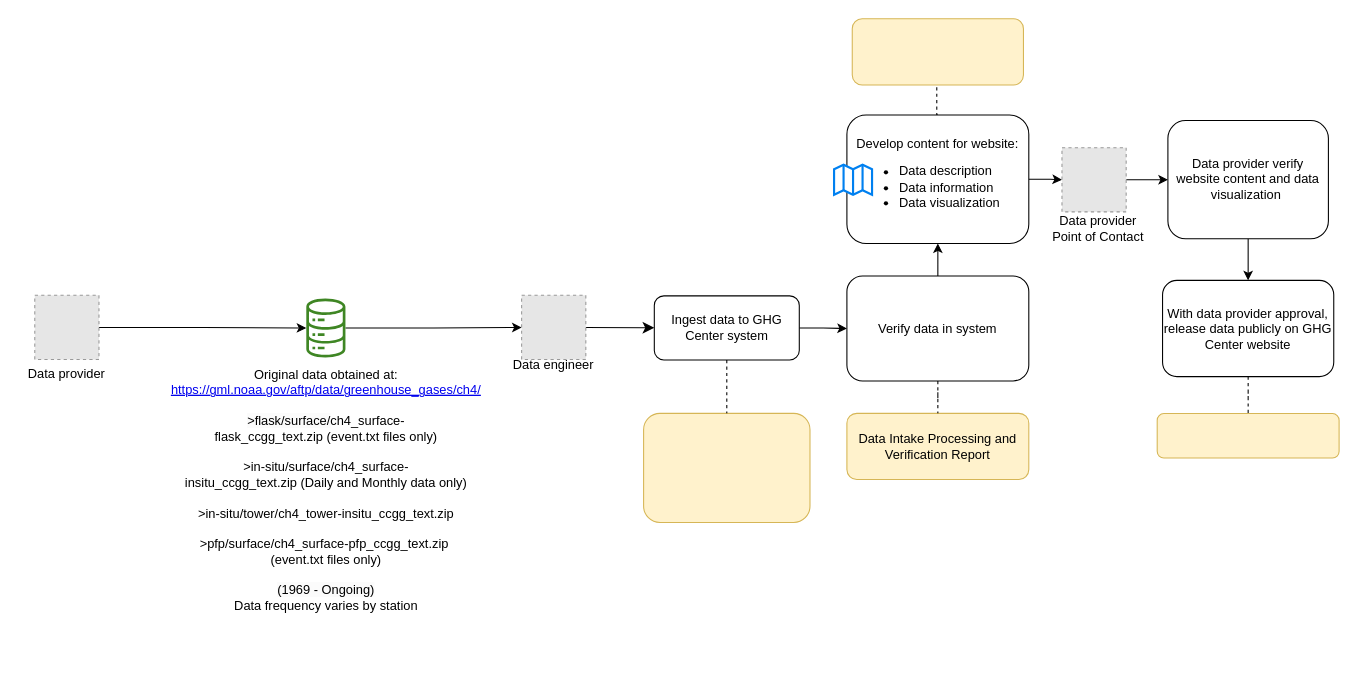
This 1358x690 diagram has some shape labels left out. Grey dashed boxes stand in for pictures. The centre of each missing label's shape, as x and y in pixels:
"All developed code available on GitHub" belongs at point (1247, 435).
"Hourly In-Situ Tower data aggregated to daily and monthly measurements" belongs at point (726, 467).
"Sample Data Usage Jupyter Notebook" belongs at point (937, 51).
